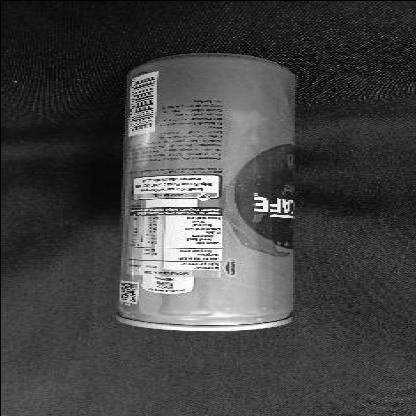alumunium_can: (116, 51, 296, 330)
